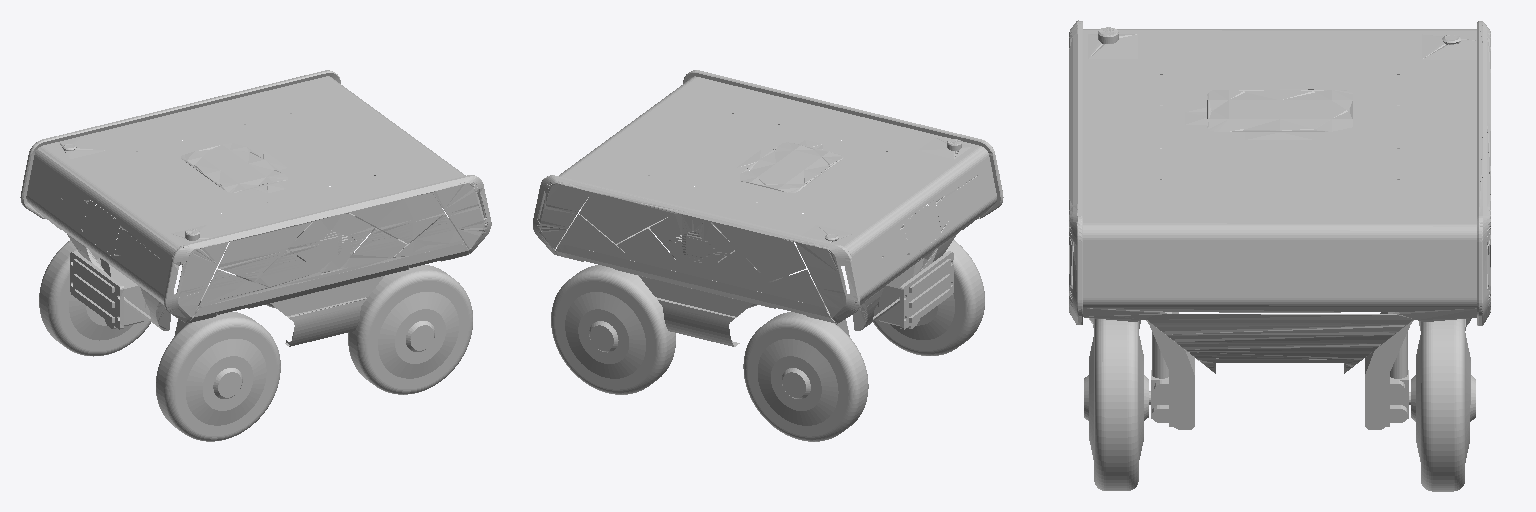
robot.urdf — yhs_chassis_description:
<robot name="yhs_chassis_description">
  <link name="base_link">
    <visual>
      <origin
        xyz="-0.34 0.275 0"
        rpy="1.57 0 0" />
      <geometry>
        <mesh
          filename="package://yhs_chassis_description/meshes/FW-001.STL"/>
      </geometry>
      <material
        name="">
        <color
          rgba="0.8 0.8 0.8 1" />
      </material>
    </visual>
  </link>
</robot>

--- Render facts (derived) ---
Views: 3 orthographic renders of the robot side by side, from view 1: azimuth 30°, elevation 25°; view 2: azimuth 150°, elevation 25°; view 3: azimuth 270°, elevation 25°.
Robot: yhs_chassis_description — 1 links, 0 joints (none); root link base_link; default pose: every joint at zero.
Visible links, largest first — view 1: base_link; view 2: base_link; view 3: base_link.
Link boxes in pixels (box(x1,y1,x2,y2)): base_link: box(20, 70, 491, 441); base_link: box(533, 70, 1003, 441); base_link: box(1069, 20, 1490, 491).
Size in the robot's own frame: 0.6791 by 0.5421 by 0.4264 metres.
1 mesh visuals loaded from 1 distinct referenced files (1 binary STL).